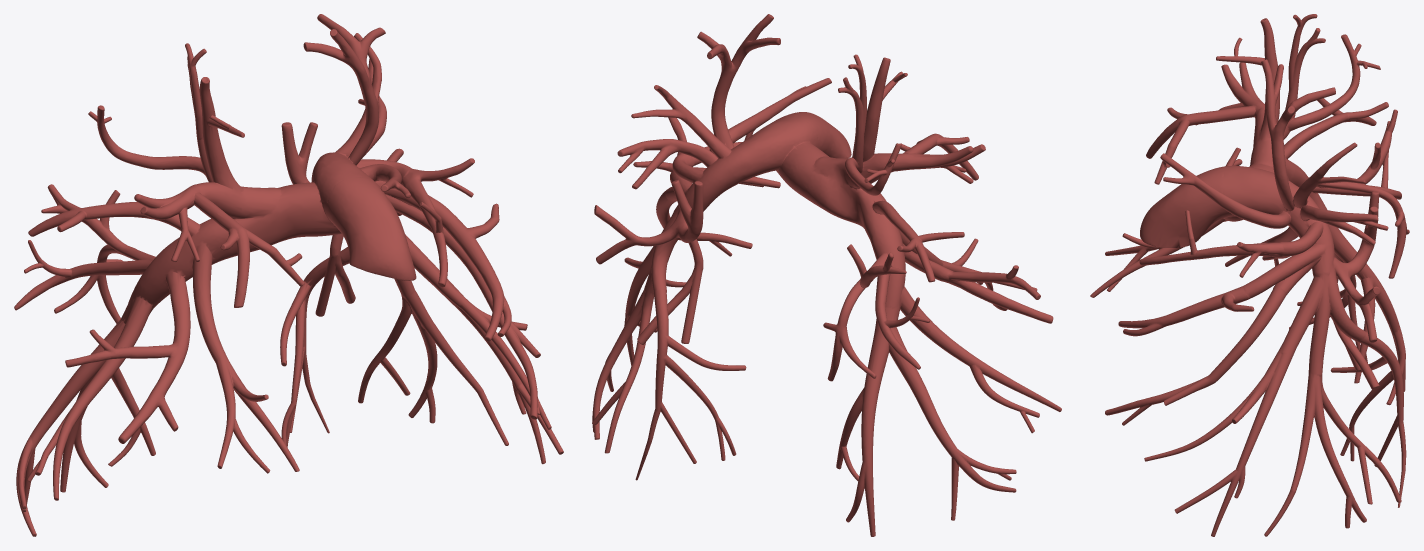
The model's file is FMA66326.glb.
The picture shows the model from 3 angles, left to right: view 1: azimuth 30°, elevation 25°; view 2: azimuth 150°, elevation 25°; view 3: azimuth 270°, elevation 25°; orthographic projection. The views are drawn at different scales.
Visible parts, largest first — view 1: FMA66326; view 2: FMA66326; view 3: FMA66326.
Part boxes in pixels (x1=…): FMA66326: x1=14, y1=14, x2=563, y2=536; FMA66326: x1=592, y1=14, x2=1061, y2=536; FMA66326: x1=1090, y1=14, x2=1409, y2=536.
Bounding box in the file's own units: 0.2473 × 0.2329 × 0.1613.
